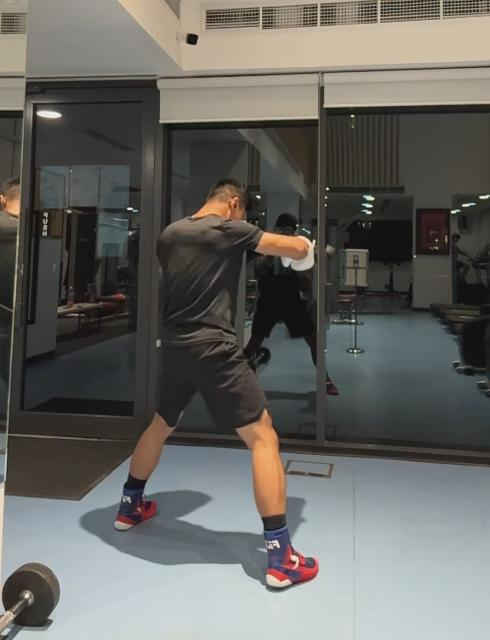punch: (113, 178, 319, 592)
